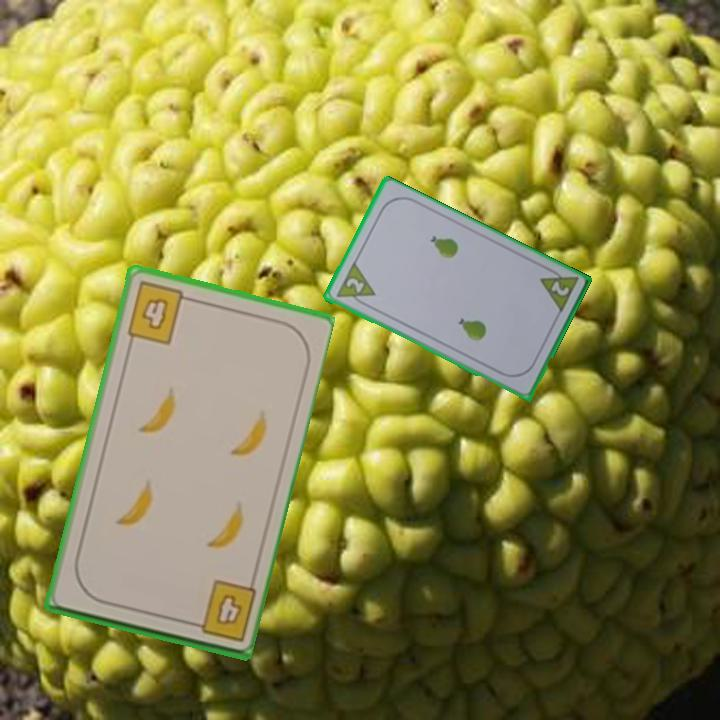2p: (536, 263, 581, 317), (332, 260, 378, 311)
4b: (183, 576, 259, 645), (123, 278, 195, 348)
